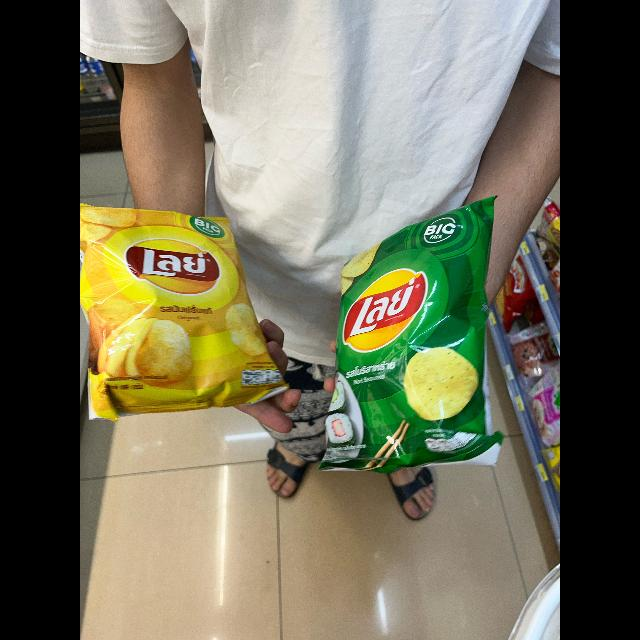snack_bag: (319, 193, 515, 472), (80, 185, 294, 432)
